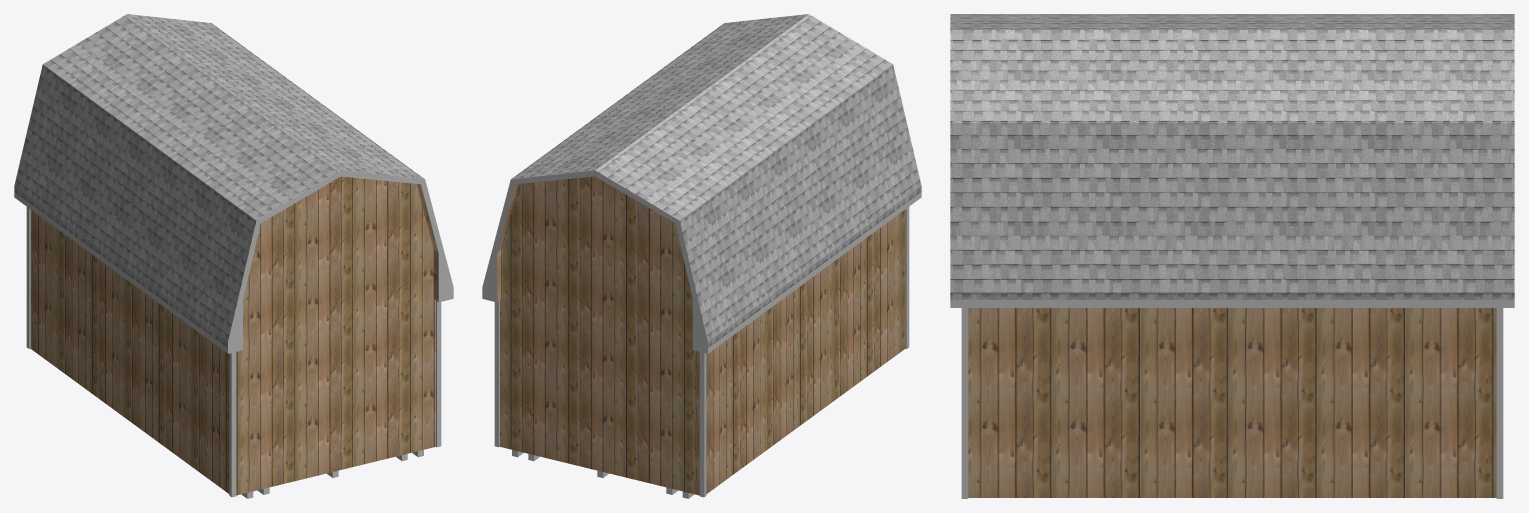
File: Two Story Gambrel_12x20.obj
3 renders of one model, left to right at view 1: azimuth 30°, elevation 25°; view 2: azimuth 150°, elevation 25°; view 3: azimuth 270°, elevation 25°, orthographic. The views are drawn at different scales.
Parts seen in each view (by area): view 1: Shed, Roof, Sides, Trim; view 2: Shed, Roof, Sides, Trim; view 3: Roof, Shed, Sides, Trim.
Part boxes in pixels (box(x1,y1,x2,y2)): Shed: box(30, 176, 438, 495); Roof: box(14, 14, 424, 347); Sides: box(14, 170, 453, 353); Trim: box(26, 207, 441, 497); Shed: box(497, 176, 905, 495); Roof: box(511, 14, 921, 347); Sides: box(482, 170, 921, 353); Trim: box(494, 207, 909, 497); Roof: box(950, 14, 1514, 299); Shed: box(968, 308, 1496, 497); Sides: box(950, 300, 1514, 307); Trim: box(961, 308, 1503, 498).
Size of the model in its own units: 3.9 by 5.14 by 6.4.
